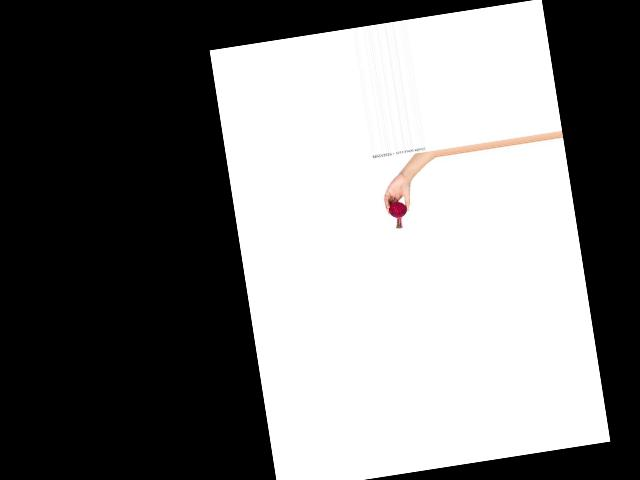beet: (387, 201, 409, 229)
